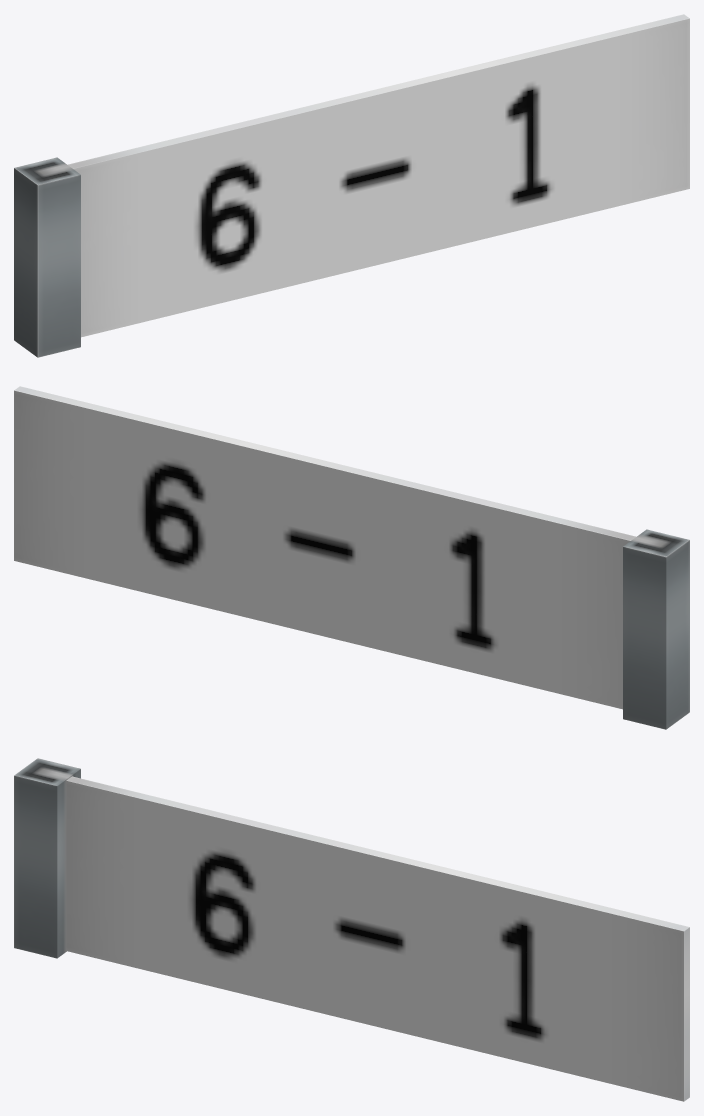
The model's file is SHW_NamePlate_01_06_01.fbx.
3 renders of one model, top to bottom at view 1: azimuth 30°, elevation 25°; view 2: azimuth 150°, elevation 25°; view 3: azimuth 330°, elevation 25°, orthographic.
Visible parts, largest first — view 1: shw_nameplate_01_06_01; view 2: shw_nameplate_01_06_01; view 3: shw_nameplate_01_06_01.
Boxes of the visible parts, x1=… form: shw_nameplate_01_06_01: x1=14, y1=14, x2=689, y2=357; shw_nameplate_01_06_01: x1=14, y1=386, x2=689, y2=729; shw_nameplate_01_06_01: x1=14, y1=758, x2=689, y2=1101.
Bounding box in the file's own units: 32.1 × 8 × 2.
